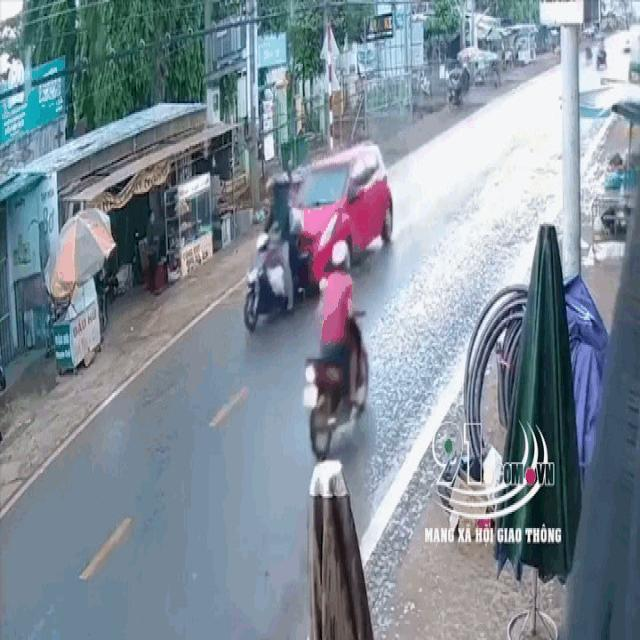multiple_accident: (240, 132, 396, 344)
